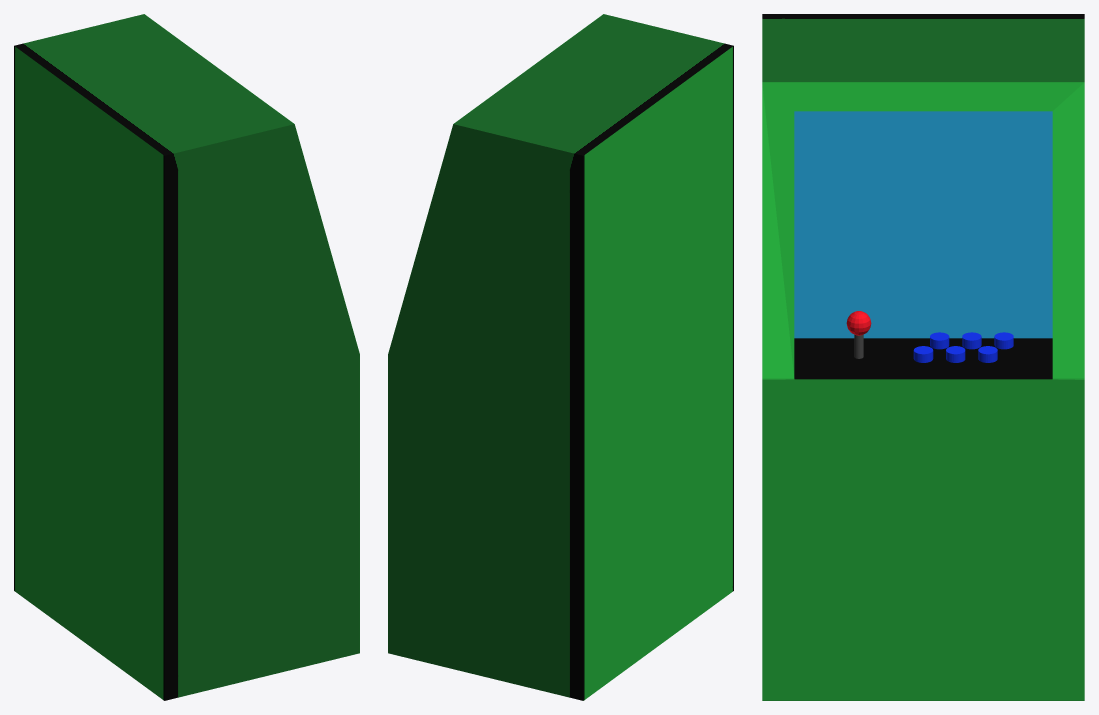
File: Arcade Machine.glb
3 renders of one model, left to right at view 1: azimuth 30°, elevation 25°; view 2: azimuth 150°, elevation 25°; view 3: azimuth 270°, elevation 25°, orthographic. The views are drawn at different scales.
Parts seen in each view (by area): view 1: Cabinet; view 2: Cabinet; view 3: Cabinet, Buttons, Joystick.
Part boxes in pixels (x1,y1,x2,y2): Cabinet: [14, 14, 359, 700]; Cabinet: [388, 14, 733, 700]; Cabinet: [762, 14, 1084, 700]; Buttons: [913, 332, 1013, 362]; Joystick: [846, 311, 871, 358].
Bounding box in the file's own units: 1.5 × 4 × 2.
3 materials, 3 textured.
